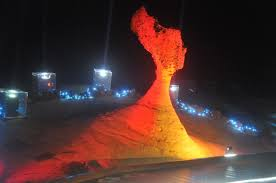yehliu: (124, 6, 194, 75)
